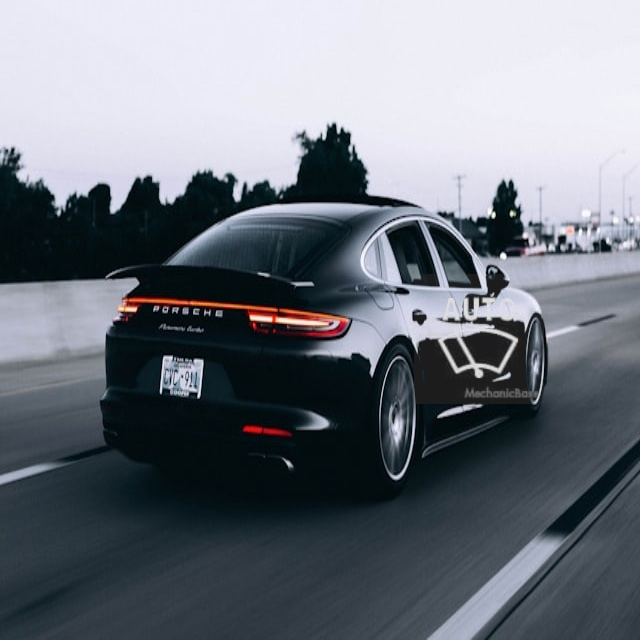symbol: (414, 274, 544, 404)
